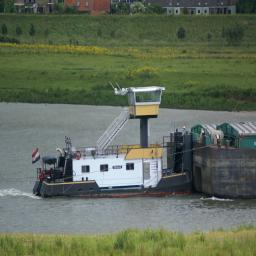tugboat: (31, 81, 198, 208)
